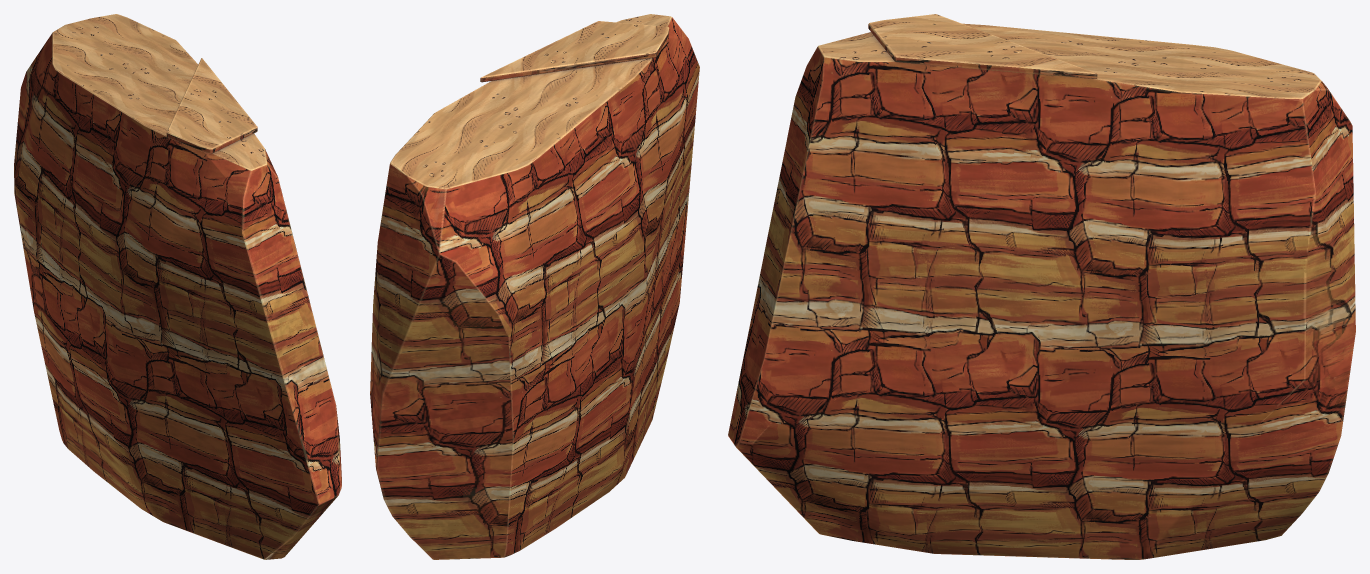
The model's file is v4_rocher_guew.glb.
The picture shows the model from 3 angles, left to right: view 1: azimuth 30°, elevation 25°; view 2: azimuth 150°, elevation 25°; view 3: azimuth 270°, elevation 25°; orthographic projection. The views are drawn at different scales.
Parts seen in each view (by area): view 1: v4_rocher_guew; view 2: v4_rocher_guew; view 3: v4_rocher_guew.
Boxes of the visible parts, <box> form: v4_rocher_guew: <box>14,14,341,559</box>; v4_rocher_guew: <box>370,14,699,559</box>; v4_rocher_guew: <box>728,14,1355,559</box>.
Bounding box in the file's own units: 1.5 × 3.8 × 4.49.
1 material, 1 textured.
